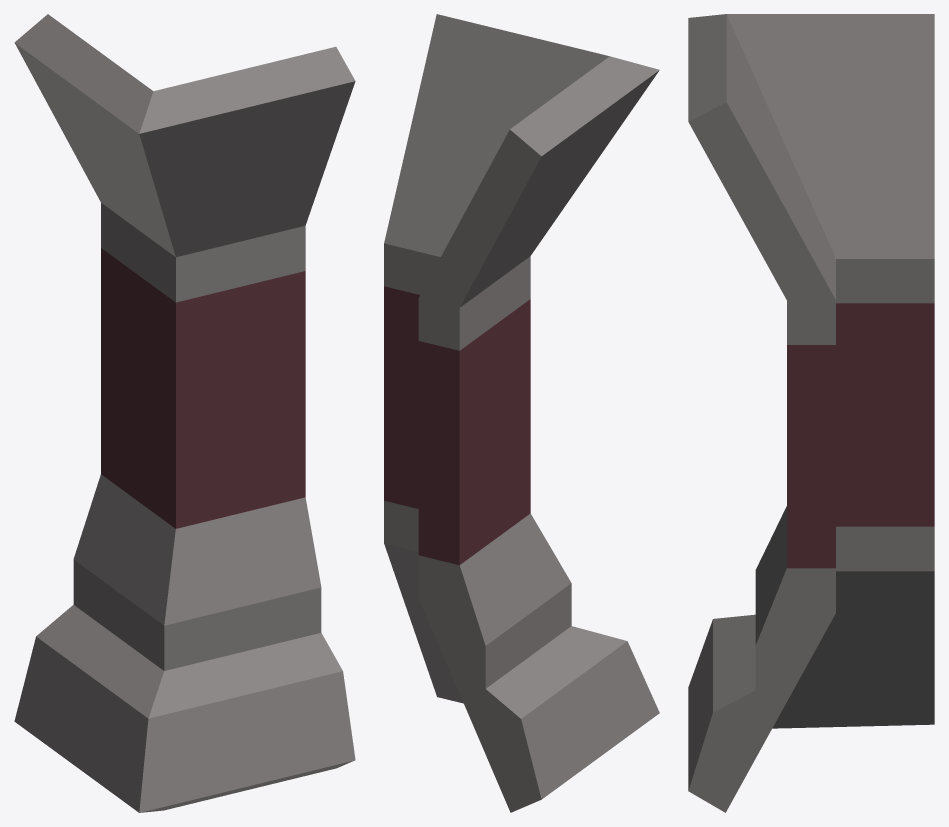
Rendered from scifi-scifi-wall-corridor-edge-stripe.glb.
3 views of the same model, side by side, from view 1: azimuth 30°, elevation 25°; view 2: azimuth 150°, elevation 25°; view 3: azimuth 270°, elevation 25° (orthographic). The views are drawn at different scales.
Visible parts, largest first — view 1: scifi-wall-corridor-edge-stripe; view 2: scifi-wall-corridor-edge-stripe; view 3: scifi-wall-corridor-edge-stripe.
Part boxes in pixels (x1,y1,x2,y2): scifi-wall-corridor-edge-stripe: [14, 14, 355, 812]; scifi-wall-corridor-edge-stripe: [384, 14, 659, 812]; scifi-wall-corridor-edge-stripe: [688, 14, 934, 812].
Bounding box in the file's own units: 1 × 3.19 × 1.
